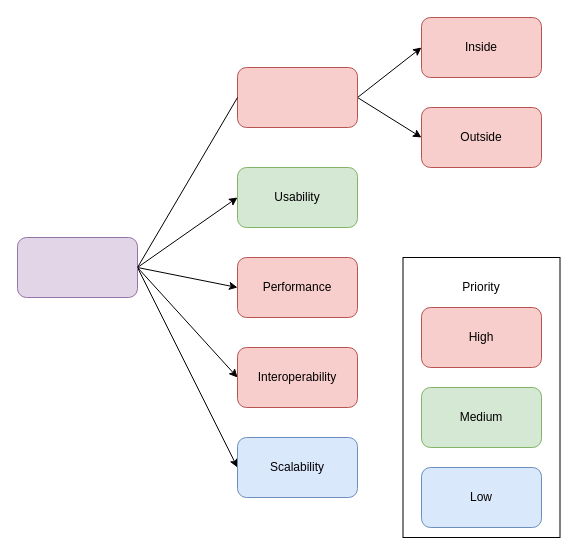
This 578x555 diagram has some shape labels left out. The shapes that lost their labels are listed below. From the top down, each one's centre as x and y in pixels, then its label:
At (x=297, y=97): "Security".
At (x=77, y=267): "Quality".
